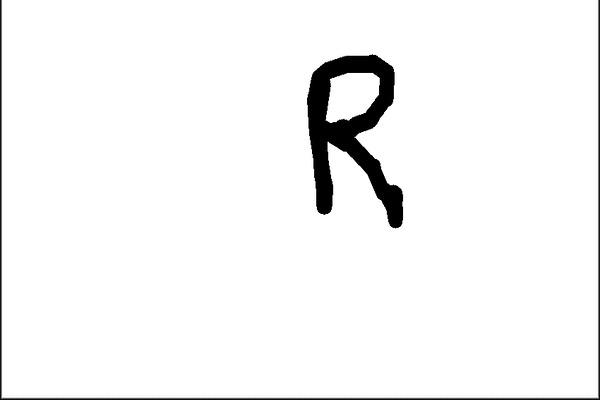R: (282, 45, 421, 239)
